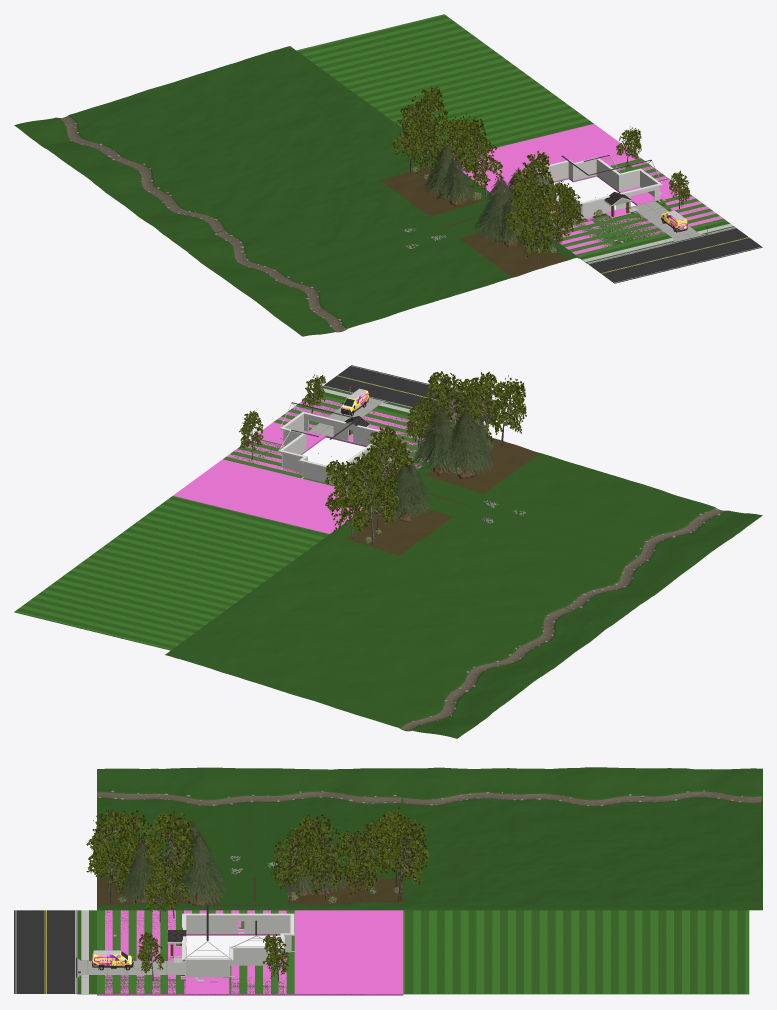
The model's file is slab_house_site.glb.
3 renders of one model, top to bottom at view 1: azimuth 30°, elevation 25°; view 2: azimuth 150°, elevation 25°; view 3: azimuth 270°, elevation 25°, orthographic. The views are drawn at different scales.
Visible parts, largest first — view 1: floor_terrain_west_spray, floor_terrain_west, site_mow_stripes_spray, floor_lot_spray, col_site, floor_street, site_mow_stripes, zone_backyard, floor_lot, site_dry_creek_bed_spray, zone_spray_field, site_forest_tree_3 (+17 smaller); view 2: floor_terrain_west_spray, floor_terrain_west, floor_lot_spray, site_mow_stripes_spray, zone_backyard, col_site, floor_street, site_mow_stripes, site_forest_pine_4, site_forest_tree_10, site_dry_creek_bed_spray, site_forest_pine_2 (+13 smaller); view 3: floor_terrain_west_spray, floor_terrain_west, floor_lot_spray, site_mow_stripes_spray, col_site, floor_street, zone_backyard, site_mow_stripes, zone_spray_field, zone_septic_field, site_forest_tree_4, site_dry_creek_bed_spray (+27 smaller).
Boxes of the visible parts, x1=… form: floor_terrain_west_spray: x1=14, y1=46, x2=439, y2=238; floor_terrain_west: x1=170, y1=162, x2=578, y2=336; site_mow_stripes_spray: x1=296, y1=14, x2=593, y2=152; floor_lot_spray: x1=298, y1=15, x2=592, y2=152; col_site: x1=510, y1=159, x2=723, y2=258; floor_street: x1=588, y1=228, x2=762, y2=283; site_mow_stripes: x1=504, y1=158, x2=726, y2=256; zone_backyard: x1=457, y1=124, x2=640, y2=194; floor_lot: x1=554, y1=162, x2=734, y2=263; site_dry_creek_bed_spray: x1=59, y1=116, x2=224, y2=231; zone_spray_field: x1=478, y1=136, x2=591, y2=185; site_forest_tree_3: x1=462, y1=131, x2=503, y2=198; floor_terrain_west_spray: x1=165, y1=534, x2=621, y2=738; floor_terrain_west: x1=330, y1=438, x2=762, y2=617; floor_lot_spray: x1=14, y1=496, x2=328, y2=650; site_mow_stripes_spray: x1=14, y1=496, x2=329, y2=650; zone_backyard: x1=173, y1=459, x2=371, y2=533; col_site: x1=226, y1=396, x2=436, y2=492; floor_street: x1=324, y1=365, x2=508, y2=421; site_mow_stripes: x1=223, y1=393, x2=453, y2=495; site_forest_pine_4: x1=438, y1=408, x2=493, y2=478; site_forest_tree_10: x1=347, y1=459, x2=392, y2=544; site_dry_creek_bed_spray: x1=401, y1=607, x2=574, y2=730; site_forest_pine_2: x1=413, y1=404, x2=461, y2=475; floor_terrain_west_spray: x1=403, y1=767, x2=762, y2=910; floor_terrain_west: x1=97, y1=767, x2=403, y2=910; floor_lot_spray: x1=403, y1=910, x2=748, y2=994; site_mow_stripes_spray: x1=403, y1=910, x2=749, y2=993; col_site: x1=97, y1=910, x2=403, y2=995; floor_street: x1=14, y1=910, x2=77, y2=993; zone_backyard: x1=294, y1=910, x2=403, y2=993; site_mow_stripes: x1=97, y1=910, x2=294, y2=993; zone_spray_field: x1=304, y1=918, x2=383, y2=985; zone_septic_field: x1=304, y1=914, x2=383, y2=947; site_forest_tree_4: x1=298, y1=814, x2=346, y2=900; site_dry_creek_bed_spray: x1=403, y1=791, x2=761, y2=806.
Size of the model in its own units: 87.25 by 19.74 by 116.
Materials: 68 (28 with a texture image).
